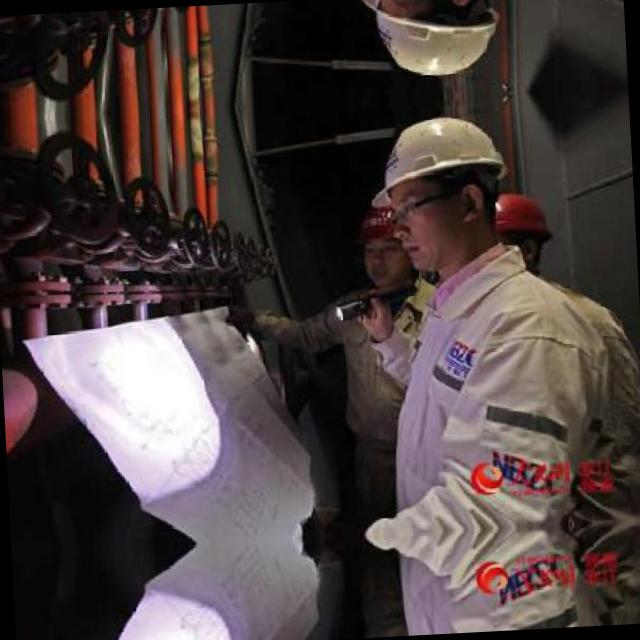helmet: (360, 95, 509, 281), (353, 0, 500, 97), (485, 185, 555, 265), (356, 196, 411, 280)
